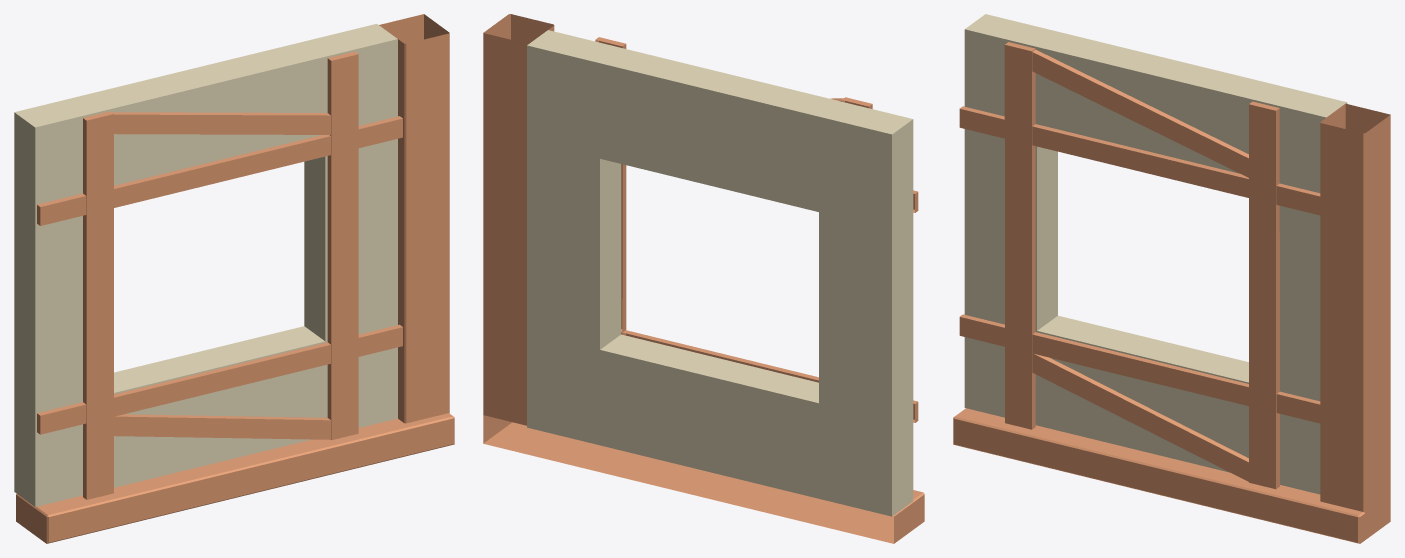
Rendered from Wall11_window_large_low.fbx.
The picture shows the model from 3 angles, left to right: view 1: azimuth 30°, elevation 25°; view 2: azimuth 150°, elevation 25°; view 3: azimuth 330°, elevation 25°; orthographic projection.
Parts seen in each view (by area): view 1: Wall11_window_large_low, Wall11_window_woodframe1_low, Wall11_window_woodfplank1_low; view 2: Wall11_window_large_low, Wall11_window_woodfplank1_low, Wall11_window_woodframe1_low; view 3: Wall11_window_large_low, Wall11_window_woodframe1_low, Wall11_window_woodfplank1_low.
Boxes of the visible parts, x1,y1,x2,y2 form: Wall11_window_large_low: [14, 24, 397, 506]; Wall11_window_woodframe1_low: [37, 51, 402, 499]; Wall11_window_woodfplank1_low: [16, 14, 454, 543]; Wall11_window_large_low: [527, 30, 913, 516]; Wall11_window_woodfplank1_low: [483, 14, 924, 543]; Wall11_window_woodframe1_low: [595, 37, 918, 422]; Wall11_window_large_low: [964, 14, 1347, 494]; Wall11_window_woodframe1_low: [959, 42, 1320, 489]; Wall11_window_woodfplank1_low: [953, 103, 1390, 543].
Bounding box in the file's own units: 450 × 430 × 63.49.
